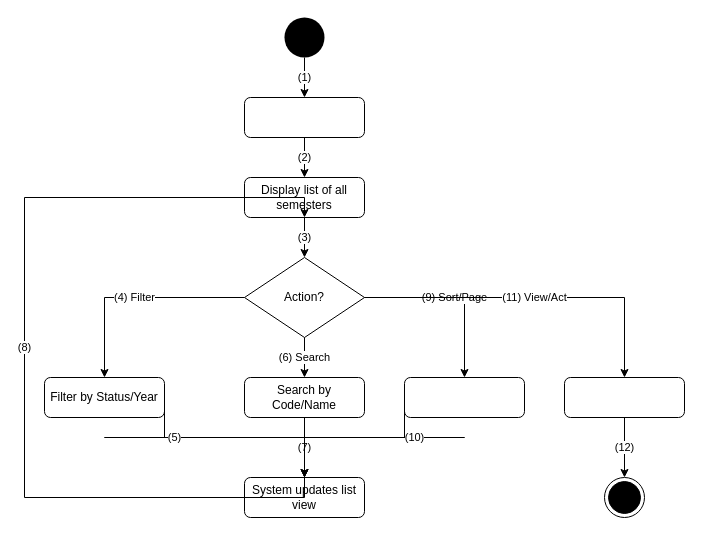
The diagram is 702 pixels wide and 535 high, and some of its shapes have lost their labels. The shapes that lost their labels are listed below. From the top down, each one's centre as x and y in pixels, then its label:
point (304, 117): Navigate to Semester Management
point (464, 397): Sort or Paginate
point (624, 397): Click semester to view/act
